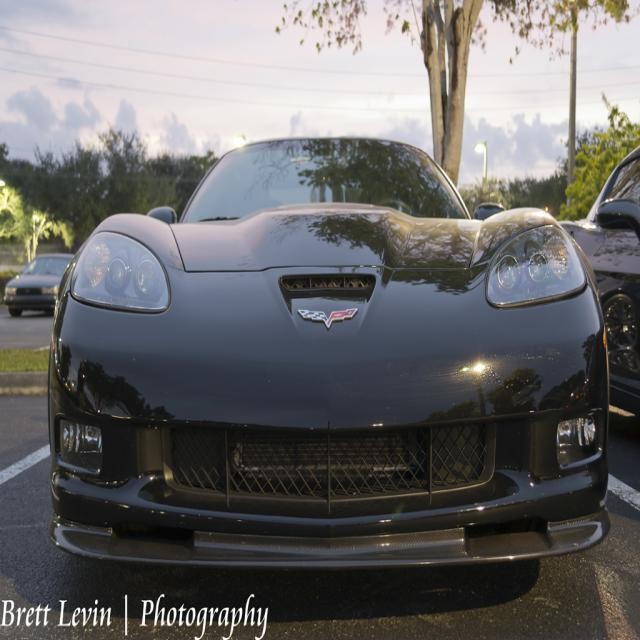car: (43, 137, 613, 603)
